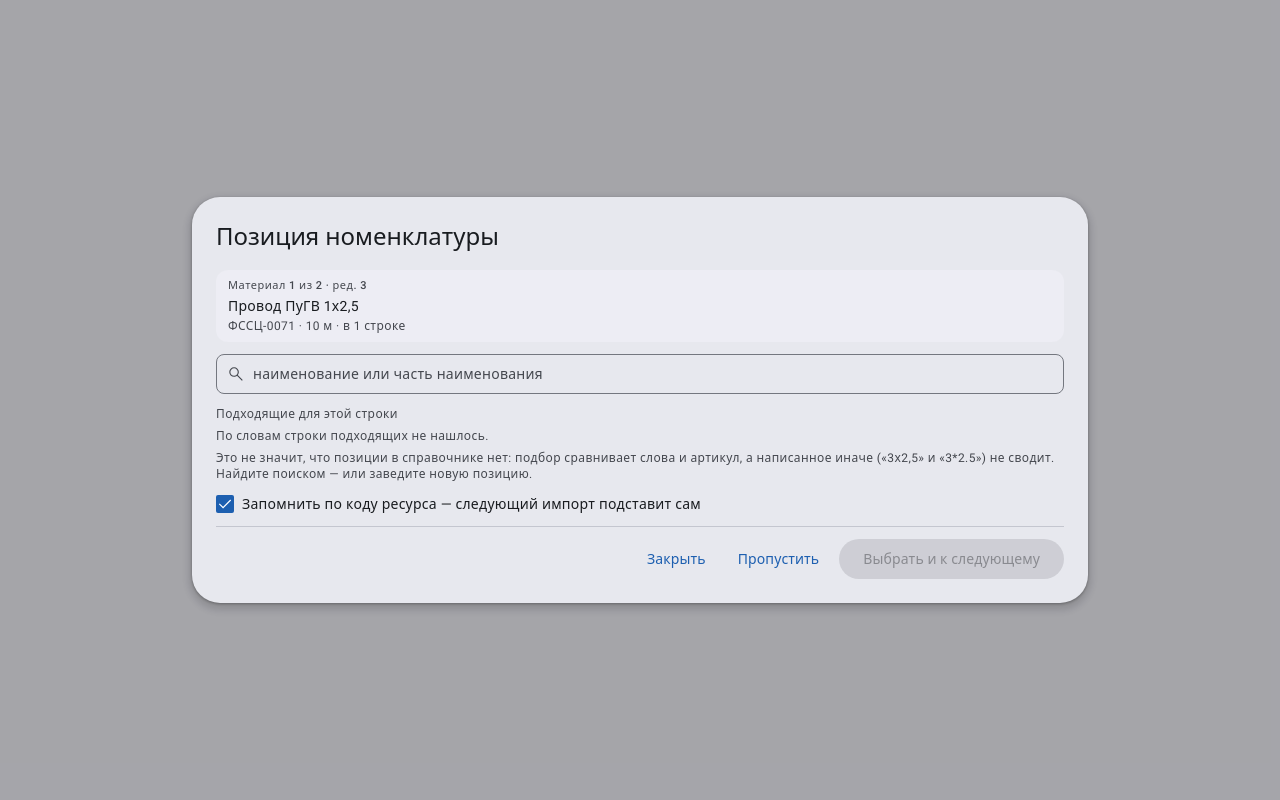
Scenario: окно материала: незнакомый материал › подбор не нашёл — сказано, что это не «позиции нет»; поиск находит, выбор — на все строки материала
Expected: the text "Материал 1 из 2 · ред. 3" is shown, [228, 279, 367, 292]
Expected: the text "По словам строки подходящих не нашлось." is shown, [216, 429, 489, 443]
Type "ПуГВ" into the field named "Поиск позиции". click: (653, 374)
box: [253, 364, 1053, 384]
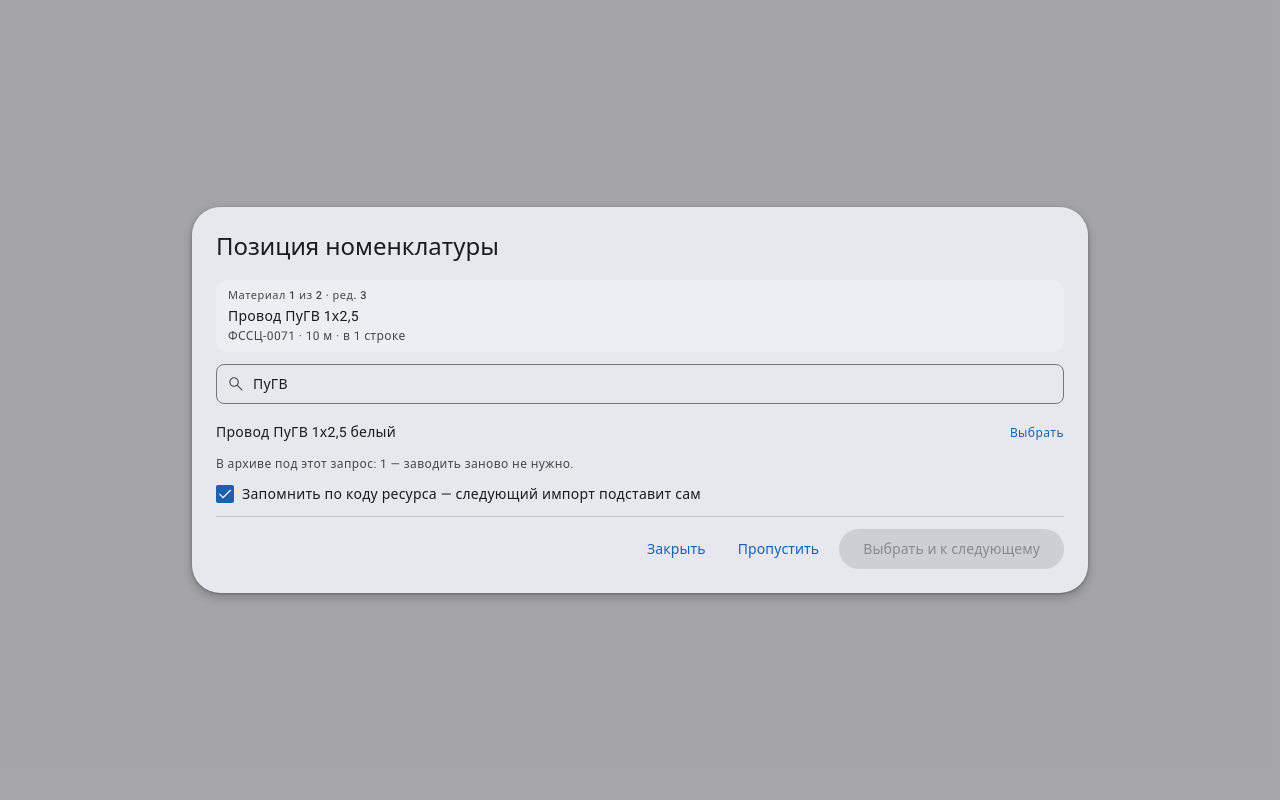
Result: the text "В архиве под этот запрос: 1 — заводить заново не нужно." is shown at [216, 457, 574, 471]
Click the text "Провод ПуГВ 1х2,5 белый". click: (306, 432)
box: [216, 424, 396, 440]
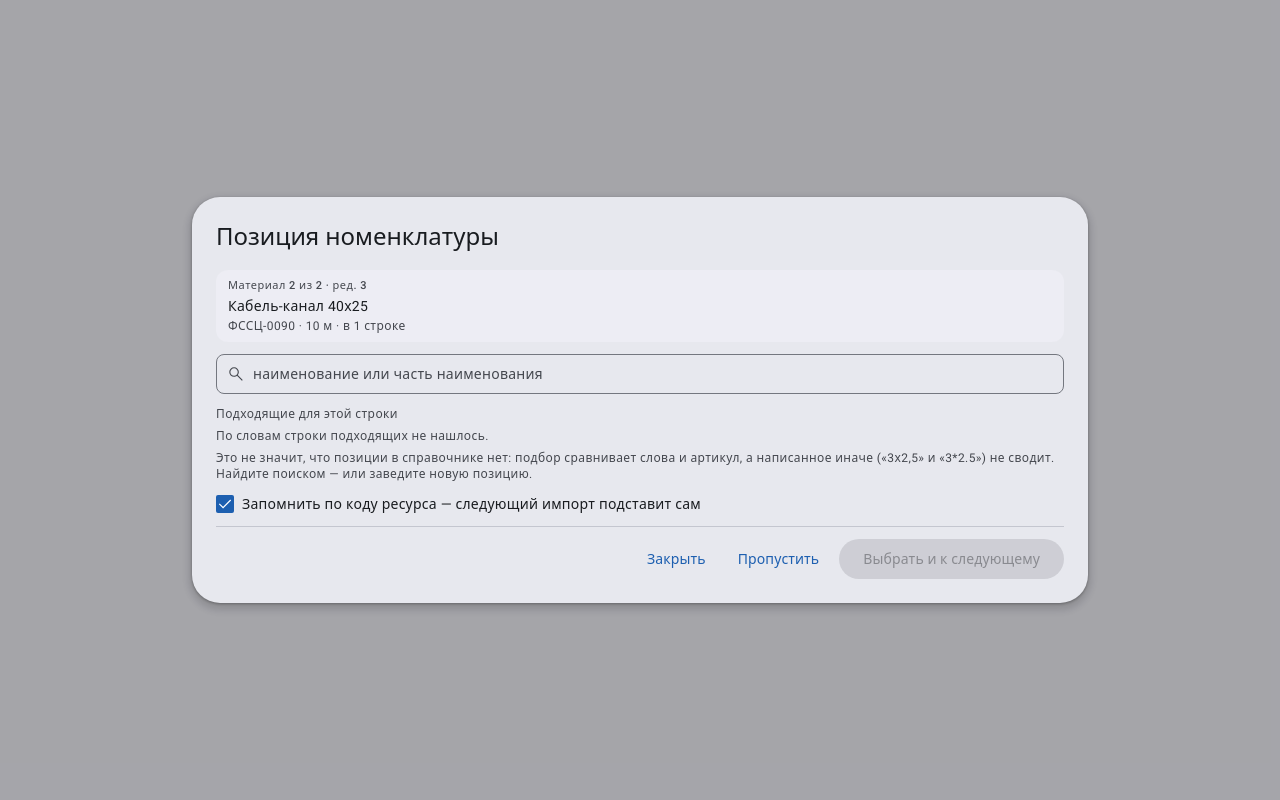
Result: the text "Материал 2 из 2 · ред. 3" is shown at [228, 279, 367, 292]
Result: the text "Кабель-канал 40х25" is shown at [228, 298, 368, 314]
